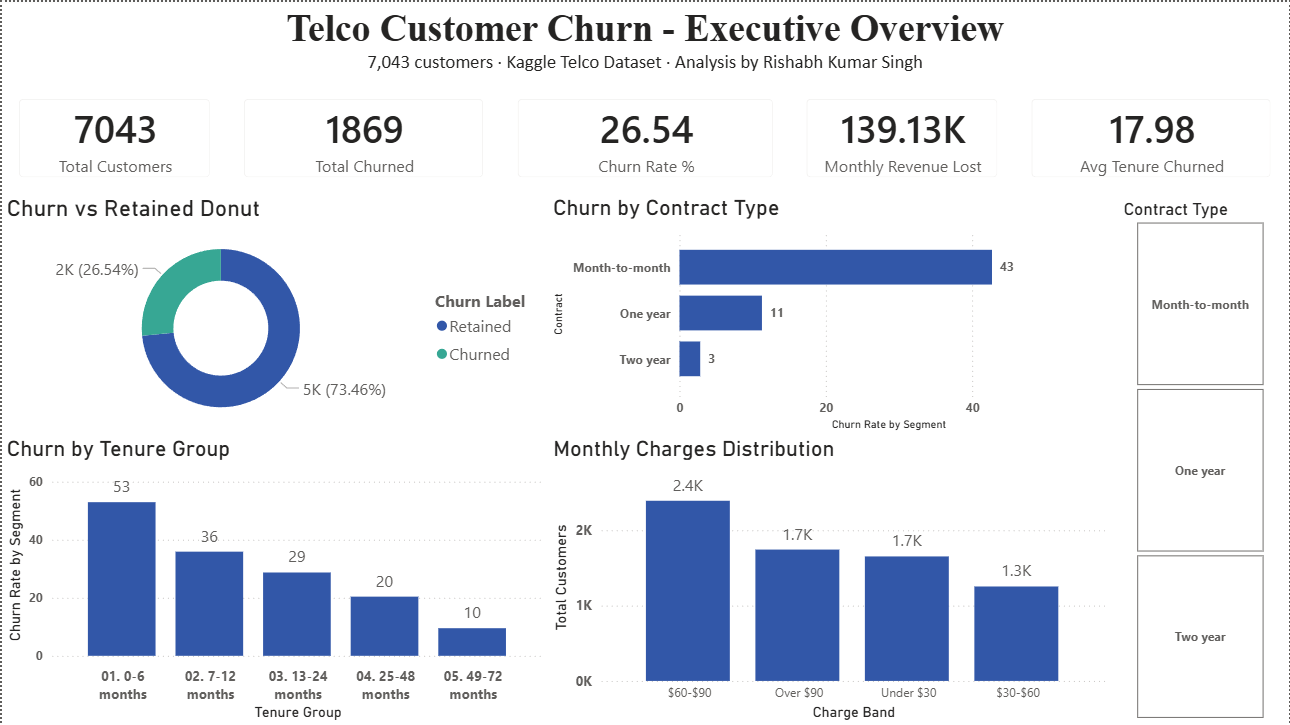

This screenshot's page, from the dashboard's own definition file:
{"tool":"powerbi","page":{"name":"Executive Overview","canvas":[1280,720],"ordinal":0},"visuals":[{"type":"textbox","box":[0,0,1280,80],"z":0},{"type":"cardVisual","fields":{"Data":["churn_cleaned.Total Customers"]},"box":[0,80,224,112],"z":1000},{"type":"cardVisual","fields":{"Data":["churn_cleaned.Total Churned"]},"box":[224,80,272,112],"z":2000},{"type":"cardVisual","fields":{"Data":["churn_cleaned.Churn Rate %"]},"box":[496,80,288,112],"z":3000},{"type":"cardVisual","fields":{"Data":["churn_cleaned.MRR Lost"]},"box":[784,80,224,112],"z":4000},{"type":"cardVisual","fields":{"Data":["churn_cleaned.Avg Tenure Churned"]},"box":[1008,80,272,112],"z":5000},{"type":"donutChart","title":"Churn vs Retained Donut","fields":{"Category":["churn_cleaned.Churn Label"],"Y":["churn_cleaned.Total Customers"]},"box":[0,192,544,240],"z":6000},{"type":"clusteredBarChart","title":"Churn by Contract Type","fields":{"Category":["churn_cleaned.Contract"],"Y":["churn_cleaned.Churn Rate by Segment"]},"box":[544,192,560,240],"z":7000},{"type":"clusteredColumnChart","title":"Churn by Tenure Group","fields":{"Category":["churn_cleaned.Tenure Group"],"Y":["churn_cleaned.Churn Rate by Segment"]},"box":[0,432,544,288],"z":8000},{"type":"clusteredColumnChart","title":"Monthly Charges Distribution","fields":{"Category":["churn_cleaned.Charge Band"],"Y":["churn_cleaned.Total Customers"]},"box":[544,432,560,288],"z":9000},{"type":"slicer","fields":{"Values":["churn_cleaned.Contract"]},"box":[1104,192,176,528],"z":10000}]}

Visuals, with their boxes in screenshot pixels (x1, y1, x2, y2), scaled from the page's 1280x720 canvas onto the 1290x725 screenshot:
textbox: (x1=0, y1=0, x2=1289, y2=81)
cardVisual - churn_cleaned.Total Customers: (x1=0, y1=81, x2=226, y2=193)
cardVisual - churn_cleaned.Total Churned: (x1=226, y1=81, x2=500, y2=193)
cardVisual - churn_cleaned.Churn Rate %: (x1=500, y1=81, x2=790, y2=193)
cardVisual - churn_cleaned.MRR Lost: (x1=790, y1=81, x2=1016, y2=193)
cardVisual - churn_cleaned.Avg Tenure Churned: (x1=1016, y1=81, x2=1289, y2=193)
"Churn vs Retained Donut" donutChart: (x1=0, y1=193, x2=548, y2=435)
"Churn by Contract Type" clusteredBarChart: (x1=548, y1=193, x2=1113, y2=435)
"Churn by Tenure Group" clusteredColumnChart: (x1=0, y1=435, x2=548, y2=724)
"Monthly Charges Distribution" clusteredColumnChart: (x1=548, y1=435, x2=1113, y2=724)
slicer - churn_cleaned.Contract: (x1=1113, y1=193, x2=1289, y2=724)
